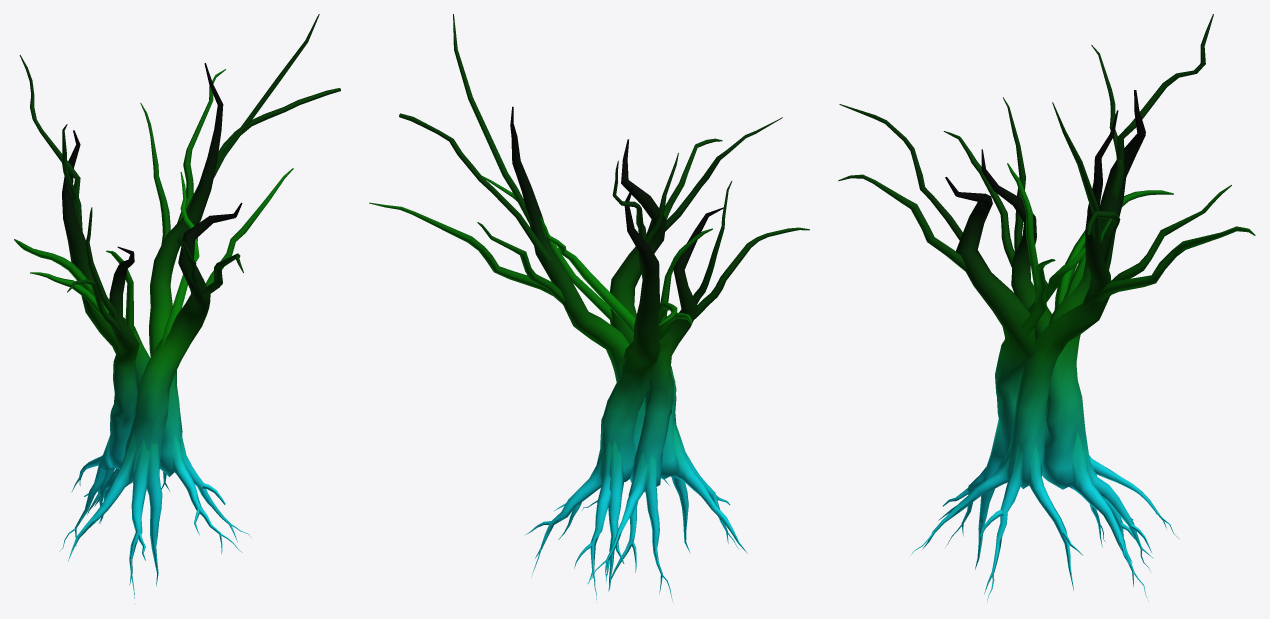
File: Burntree8.fbx
The picture shows the model from 3 angles, left to right: view 1: azimuth 30°, elevation 25°; view 2: azimuth 150°, elevation 25°; view 3: azimuth 270°, elevation 25°; orthographic projection. The views are drawn at different scales.
Visible parts, largest first — view 1: Burntree8_LOD0; view 2: Burntree8_LOD0; view 3: Burntree8_LOD0.
Part boxes in pixels (bbox=[...]): Burntree8_LOD0: bbox=[14, 14, 340, 604]; Burntree8_LOD0: bbox=[369, 14, 809, 602]; Burntree8_LOD0: bbox=[838, 14, 1255, 602].
Size of what is drawn, in the model's own units: 885 by 1261 by 824.
